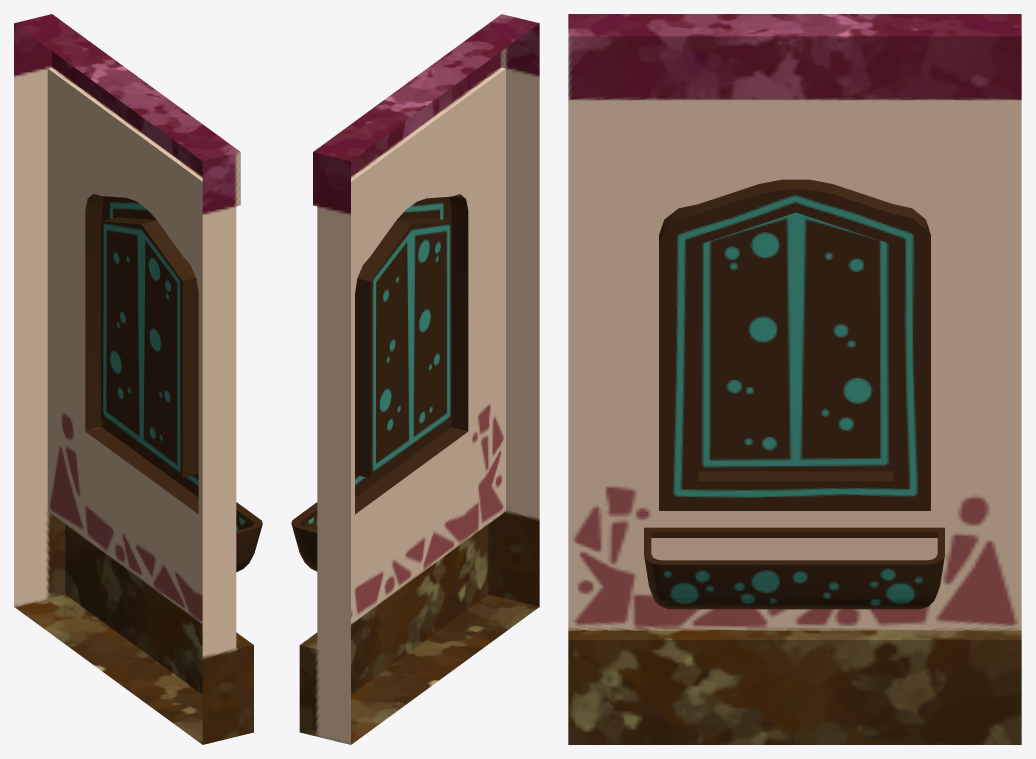
File: pared ventana.fbx
3 renders of one model, left to right at view 1: azimuth 30°, elevation 25°; view 2: azimuth 150°, elevation 25°; view 3: azimuth 270°, elevation 25°, orthographic. The views are drawn at different scales.
Parts seen in each view (by area): view 1: Cube.135; view 2: Cube.135; view 3: Cube.135.
Boxes of the visible parts, x1,y1,x2,y2 form: Cube.135: (14, 14, 262, 744); Cube.135: (291, 14, 539, 744); Cube.135: (568, 14, 1021, 744).
Size of the model in its own units: 69.25 by 396 by 232.
